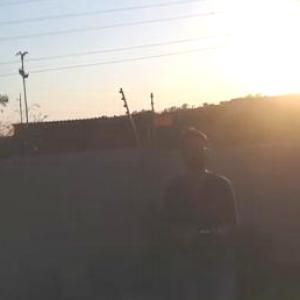follow: (152, 124, 246, 299)
